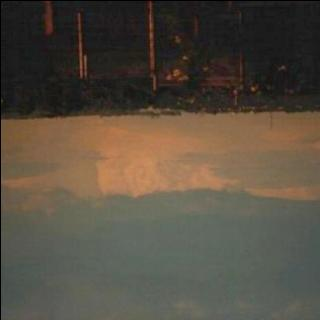Stratocumulus: (0, 121, 320, 320)
